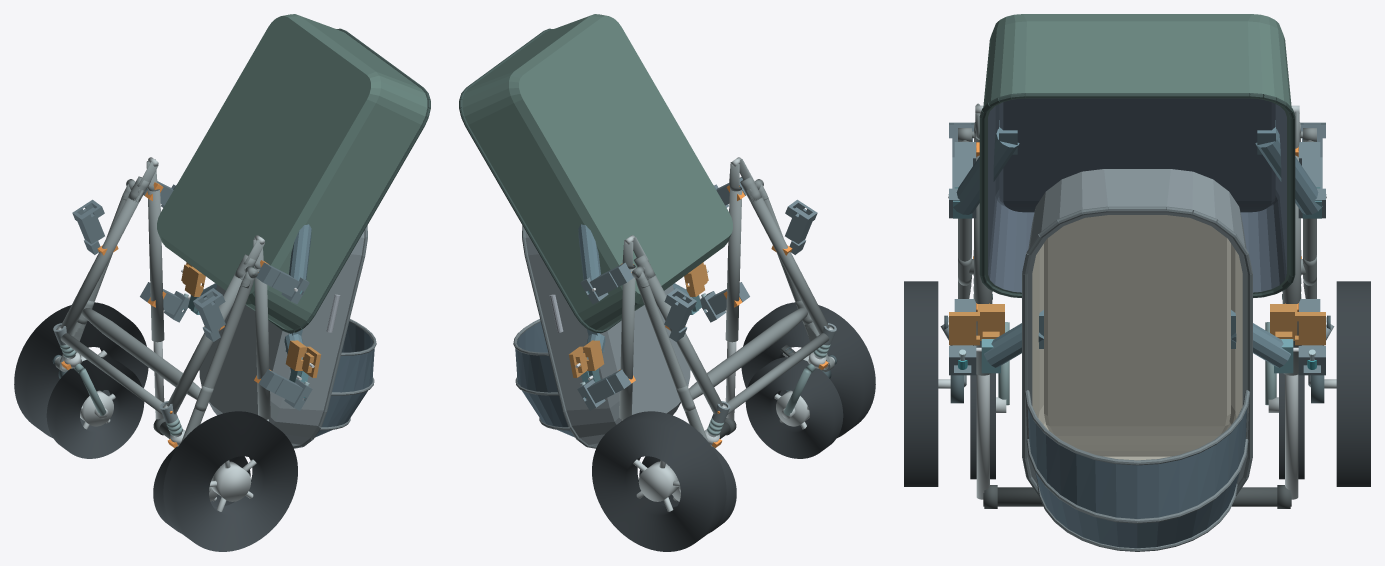
File: D12_w650_state3_wheel_L.glb
3 views of the same model, side by side, from view 1: azimuth 30°, elevation 25°; view 2: azimuth 150°, elevation 25°; view 3: azimuth 270°, elevation 25° (orthographic). The views are drawn at different scales.
Visible parts, largest first — view 1: D12_Lower, D12_Upper, RL_tire.008, FR_tire.008, RR_tire.008, V46_rearbar.009, main_lower_1.009, main_upper_1.009, V46_rear_leg_-1.009, main_upper_-1.009, main_lower_-1.009, front_fixed_round_tube.008 (+13 smaller); view 2: D12_Lower, D12_Upper, RR_tire.008, FL_tire.008, RL_tire.008, V46_rearbar.009, main_lower_-1.009, main_upper_-1.009, V46_rear_leg_1.009, main_upper_1.009, main_lower_1.009, front_fixed_round_tube.008 (+13 smaller); view 3: D12_Upper, D12_Lower, RL_tire.008, RR_tire.008, D12_Lower_Mount_M, D12_Upper_Mount_H, D02_WideAdapter_H_-1, D02_WideAdapter_H_1, round_handle.008, handle_slider_1.008, handle_slider_-1.008, FL_tire.008 (+9 smaller).
Boxes of the visible parts, x1,y1,x2,y2 form: D12_Lower: (157, 14, 430, 333); D12_Upper: (199, 225, 376, 448); RL_tire.008: (163, 411, 297, 551); FR_tire.008: (46, 357, 144, 458); RR_tire.008: (14, 302, 148, 437); V46_rearbar.009: (82, 308, 200, 399); main_lower_1.009: (60, 190, 143, 334); main_upper_1.009: (147, 189, 164, 342); V46_rear_leg_-1.009: (181, 278, 253, 441); main_upper_-1.009: (254, 267, 270, 419); main_lower_-1.009: (167, 273, 245, 414); front_fixed_round_tube.008: (60, 333, 162, 414); D12_Lower: (459, 14, 732, 333); D12_Upper: (513, 225, 690, 448); RR_tire.008: (592, 411, 726, 551); FL_tire.008: (745, 357, 843, 458); RL_tire.008: (741, 302, 875, 437); V46_rearbar.009: (689, 308, 807, 399); main_lower_-1.009: (746, 190, 829, 334); main_upper_-1.009: (725, 187, 742, 342); V46_rear_leg_1.009: (636, 278, 708, 441); main_upper_1.009: (619, 265, 635, 419); main_lower_1.009: (644, 273, 722, 414); front_fixed_round_tube.008: (727, 333, 829, 414); D12_Upper: (1022, 169, 1252, 551); D12_Lower: (979, 14, 1295, 297); RL_tire.008: (904, 281, 938, 486); RR_tire.008: (1336, 281, 1370, 486); D12_Lower_Mount_M: (948, 120, 1326, 218); D12_Upper_Mount_H: (976, 310, 1298, 373); D02_WideAdapter_H_-1: (948, 304, 1004, 345); D02_WideAdapter_H_1: (1270, 304, 1326, 345); round_handle.008: (983, 487, 1291, 506); handle_slider_1.008: (1285, 374, 1298, 499); handle_slider_-1.008: (976, 374, 989, 499); FL_tire.008: (970, 345, 995, 479).
Size of the model in its own units: 0.8531 by 1.13 by 0.8171.
